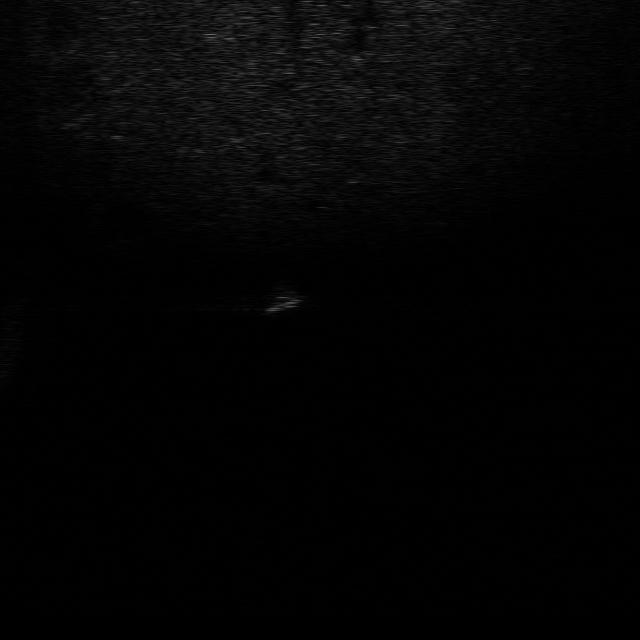human body: (258, 283, 302, 317)
